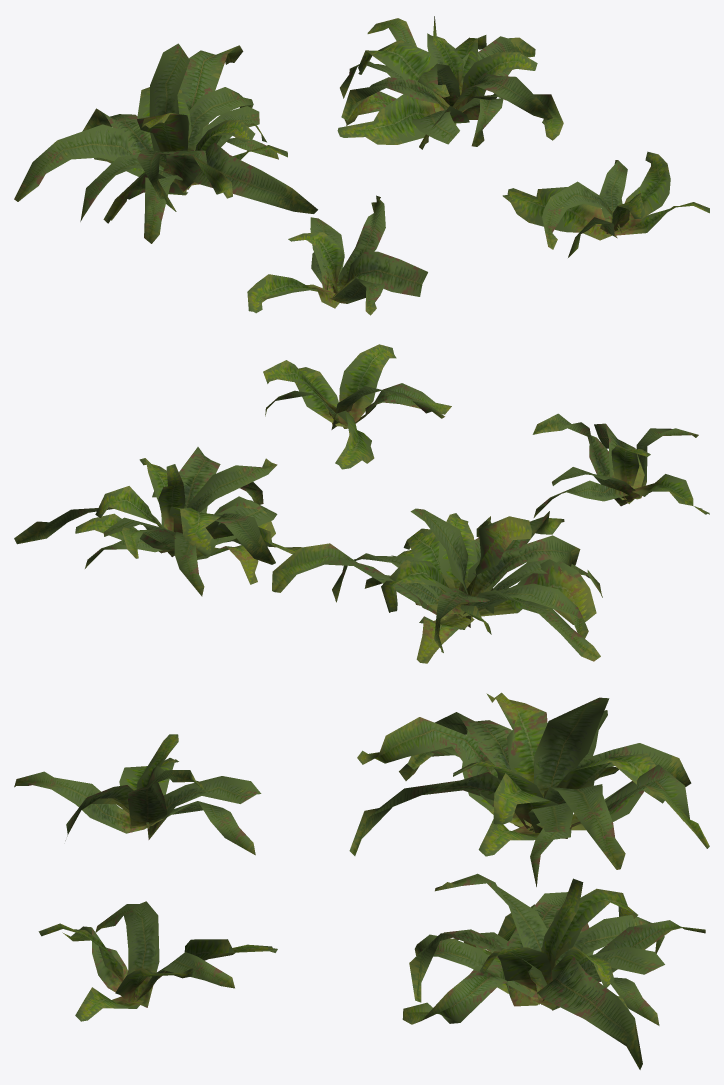
File: fern-lod.glb
3 views of the same model, one above another, from view 1: azimuth 30°, elevation 25°; view 2: azimuth 150°, elevation 25°; view 3: azimuth 270°, elevation 25° (orthographic). The views are drawn at different scales.
Visible parts, largest first — view 1: fern_02_b, fern_02_c, fern_02_d, fern_02_a; view 2: fern_02_b, fern_02_c, fern_02_d, fern_02_a; view 3: fern_02_b, fern_02_c, fern_02_a, fern_02_d.
Boxes of the visible parts, bbox=[...] form: fern_02_b: bbox=[14, 43, 317, 243]; fern_02_c: bbox=[337, 16, 563, 149]; fern_02_d: bbox=[502, 151, 709, 257]; fern_02_a: bbox=[247, 195, 427, 315]; fern_02_b: bbox=[272, 508, 602, 663]; fern_02_c: bbox=[14, 447, 301, 596]; fern_02_d: bbox=[263, 344, 451, 469]; fern_02_a: bbox=[532, 413, 709, 517]; fern_02_b: bbox=[349, 692, 709, 886]; fern_02_c: bbox=[402, 873, 705, 1069]; fern_02_a: bbox=[14, 734, 261, 855]; fern_02_d: bbox=[38, 901, 277, 1021].
Bounding box in the file's own units: 1.97 × 0.4277 × 1.72.
1 material, 1 textured.
